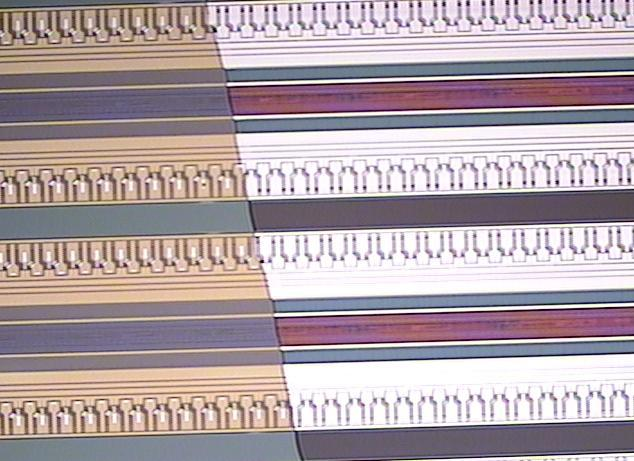COATING BAD: (208, 1, 634, 461)
